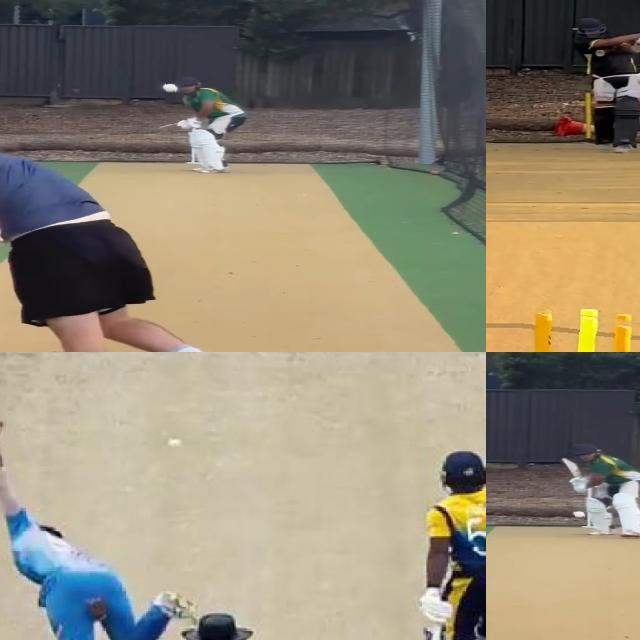Cricket ball: (168, 436, 184, 452), (161, 81, 181, 93), (570, 508, 588, 520)
Stumps: (519, 308, 640, 352)
